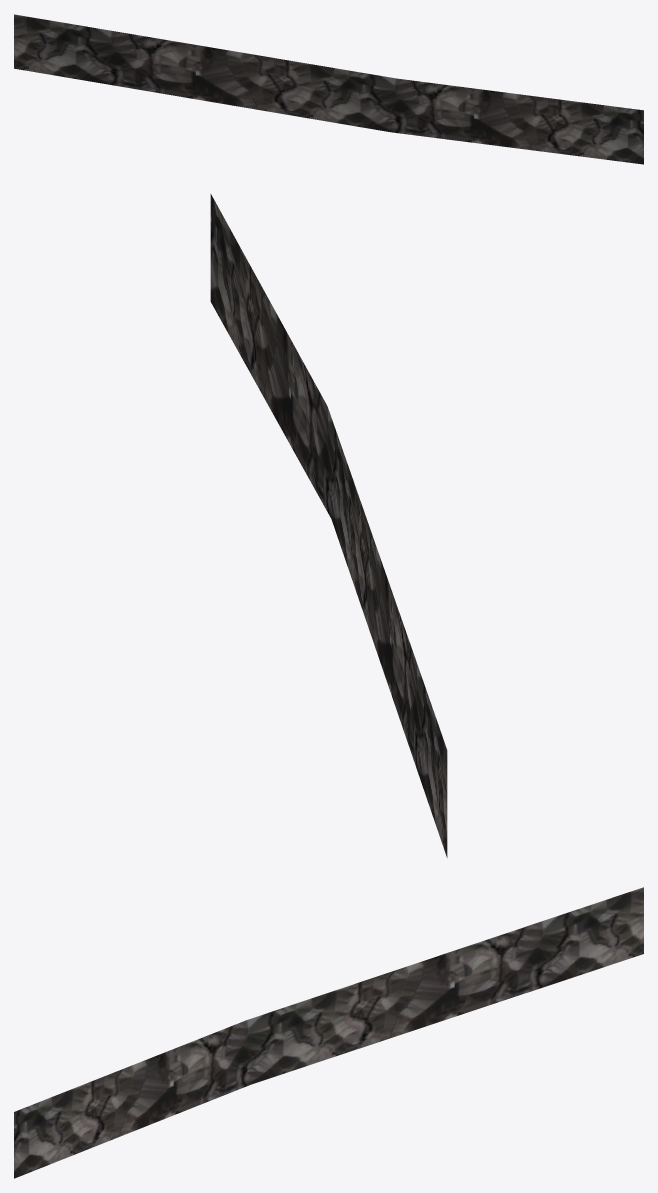
Rendered from CH09_SMAUG_PLAYSURFACE_LAIR56.fbx.
3 renders of one model, top to bottom at view 1: azimuth 30°, elevation 25°; view 2: azimuth 150°, elevation 25°; view 3: azimuth 270°, elevation 25°, orthographic. The views are drawn at different scales.
Visible parts, largest first — view 1: CH09_SMAUG_PLAYSURFACE_LAIR56; view 2: CH09_SMAUG_PLAYSURFACE_LAIR56; view 3: CH09_SMAUG_PLAYSURFACE_LAIR56.
Part boxes in pixels (x1,y1,x2,y2): CH09_SMAUG_PLAYSURFACE_LAIR56: (14, 14, 643, 164); CH09_SMAUG_PLAYSURFACE_LAIR56: (210, 194, 447, 857); CH09_SMAUG_PLAYSURFACE_LAIR56: (14, 887, 643, 1178).
Bounding box in the file's own units: 44083 × 6106 × 52199.
Materials: 1 (1 with a texture image).
